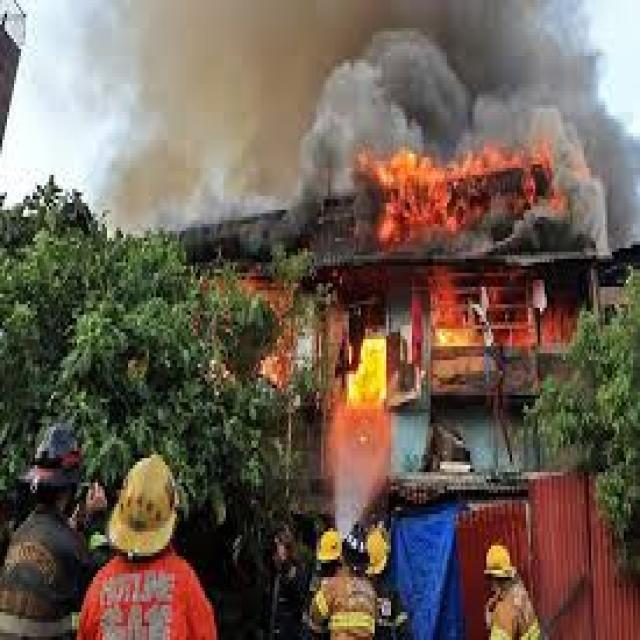Fire: (364, 152, 554, 244), (434, 265, 568, 351), (350, 345, 393, 417)
Smoke: (295, 2, 640, 244), (102, 4, 293, 218)
